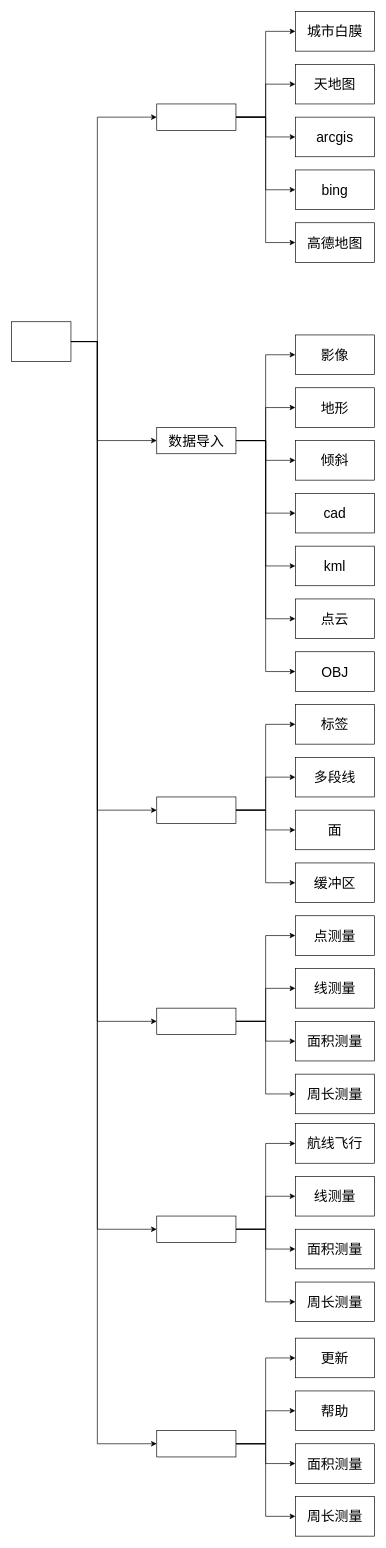
This 386x1548 diagram has some shape labels left out. The centre of each missing label's shape, as x and y in pixels:
底图数据: (196,116)
开源地球: (41,341)
测量: (196,1021)
演示汇报: (196,1228)
绘制: (196,809)
设置: (196,1443)
